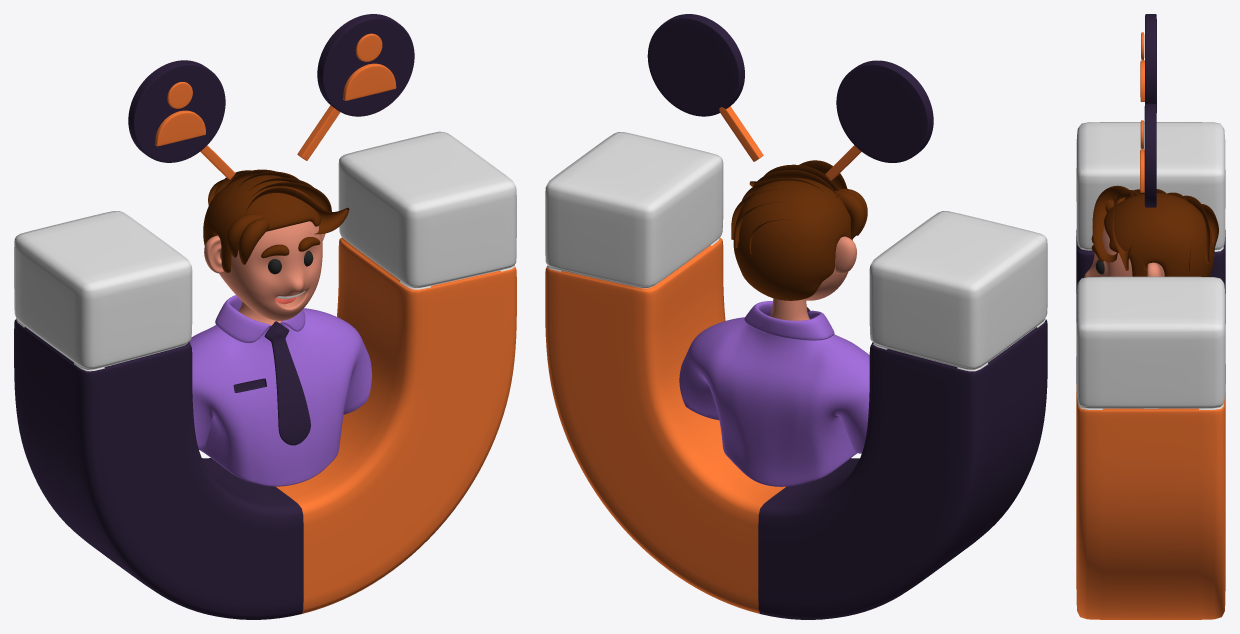
File: lead-generation-3d-animated-icon-95440870983.glb
3 renders of one model, left to right at view 1: azimuth 30°, elevation 25°; view 2: azimuth 150°, elevation 25°; view 3: azimuth 270°, elevation 25°, orthographic. The views are drawn at different scales.
Parts seen in each view (by area): view 1: Circle, Shirt.001, Cube.008, Cylinder.003, Cylinder, Cube.012, Cube.020, Cube.007; view 2: Circle, Shirt.001, Cube.008, Cylinder, Cylinder.003, Cube.012, Cube.007, Body; view 3: Circle, Cube.008, Cylinder.003, Cylinder, Cube.012.
Boxes of the visible parts, left/top/right/bottom form: Circle: left=14, top=131, right=516, bottom=619; Shirt.001: left=189, top=295, right=371, bottom=486; Cube.008: left=203, top=169, right=349, bottom=272; Cylinder.003: left=317, top=14, right=414, bottom=116; Cylinder: left=128, top=60, right=225, bottom=162; Cube.012: left=204, top=221, right=325, bottom=320; Cube.020: left=264, top=321, right=310, bottom=445; Cube.007: left=297, top=105, right=340, bottom=160; Circle: left=545, top=132, right=1047, bottom=619; Shirt.001: left=679, top=301, right=869, bottom=486; Cube.008: left=731, top=160, right=867, bottom=300; Cylinder: left=836, top=60, right=933, bottom=162; Cylinder.003: left=647, top=14, right=744, bottom=116; Cube.012: left=804, top=236, right=856, bottom=300; Cube.007: left=719, top=106, right=763, bottom=161; Body: left=769, top=298, right=809, bottom=320; Circle: left=1076, top=122, right=1225, bottom=619; Cube.008: left=1092, top=185, right=1218, bottom=276; Cylinder.003: left=1140, top=103, right=1156, bottom=207; Cylinder: left=1140, top=14, right=1156, bottom=112; Cube.012: left=1084, top=226, right=1164, bottom=277.
Size of what is drawn, in the model's own units: 1.44 by 1.73 by 0.4369.
